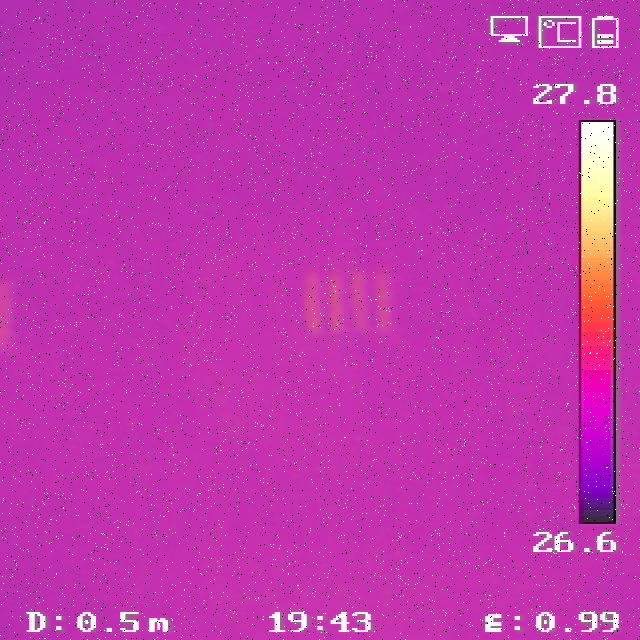threshold 4-bar target: (300, 265, 393, 332)
